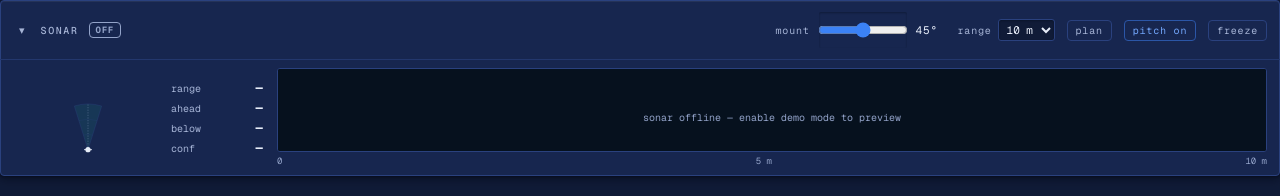
it: SonarView › defaults the mount angle to 45 degrees and persists a change
Set the slider labelled "mount 45°" to "60" at (875, 30), box [818,11,908,49]
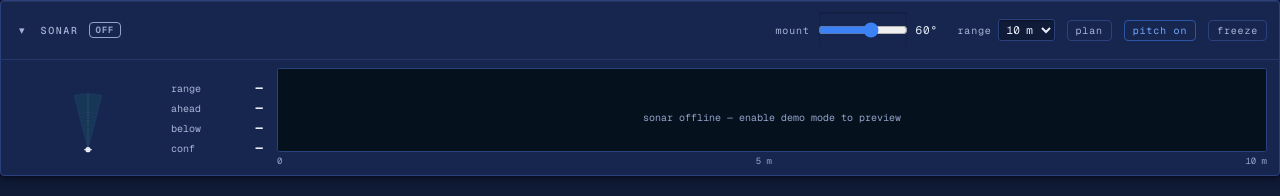
Check: the text "60°" is shown, box [916,23,938,37]
